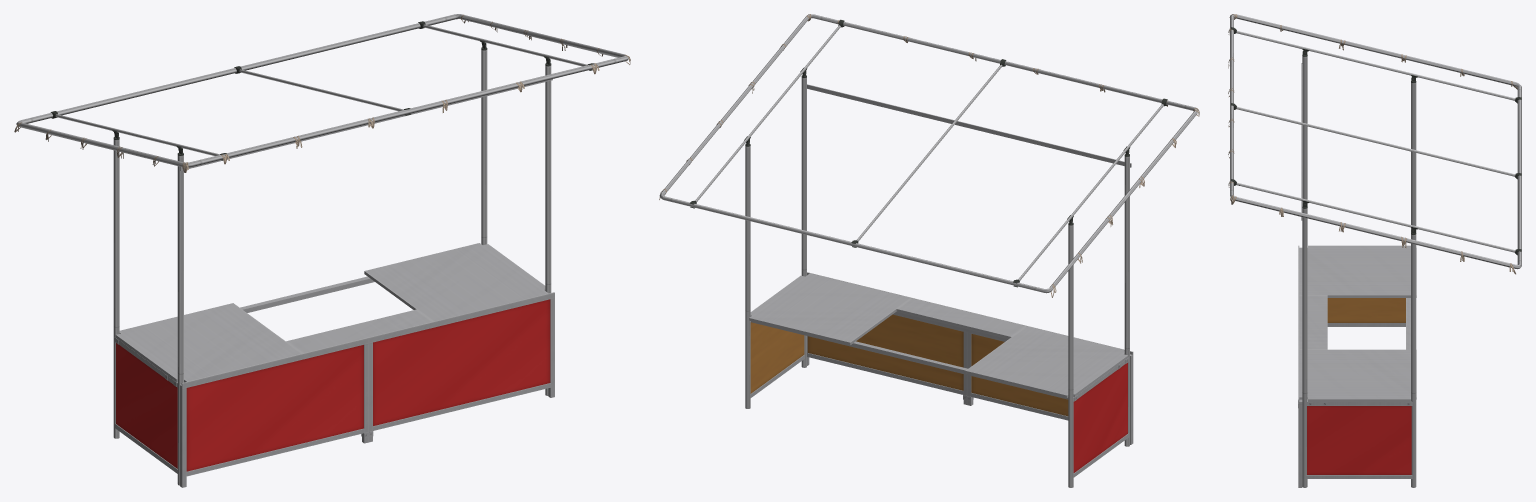
Rendered from jsf_4P_s03_c06_t02.fbx.
3 views of the same model, side by side, from view 1: azimuth 30°, elevation 25°; view 2: azimuth 150°, elevation 25°; view 3: azimuth 270°, elevation 25° (orthographic). The views are drawn at different scales.
Parts seen in each view (by area): view 1: Base_s03_c06, Table_4P_s03_t02, Pillar4_s03, Rope_4P_s03; view 2: Base_s03_c06, Table_4P_s03_t02, Pillar4_s03; view 3: Table_4P_s03_t02, Pillar4_s03, Base_s03_c06, Rope_4P_s03.
Part boxes in pixels (<box>): Base_s03_c06: <box>114,292,554,487</box>; Table_4P_s03_t02: <box>115,243,548,386</box>; Pillar4_s03: <box>16,14,628,485</box>; Rope_4P_s03: <box>14,14,630,172</box>; Base_s03_c06: <box>750,272,1133,477</box>; Table_4P_s03_t02: <box>749,273,1128,400</box>; Pillar4_s03: <box>659,14,1198,487</box>; Table_4P_s03_t02: <box>1299,245,1416,405</box>; Pillar4_s03: <box>1230,14,1521,487</box>; Base_s03_c06: <box>1298,245,1412,487</box>; Rope_4P_s03: <box>1228,14,1517,274</box>.
Bounding box in the file's own units: 316 × 243 × 211.
